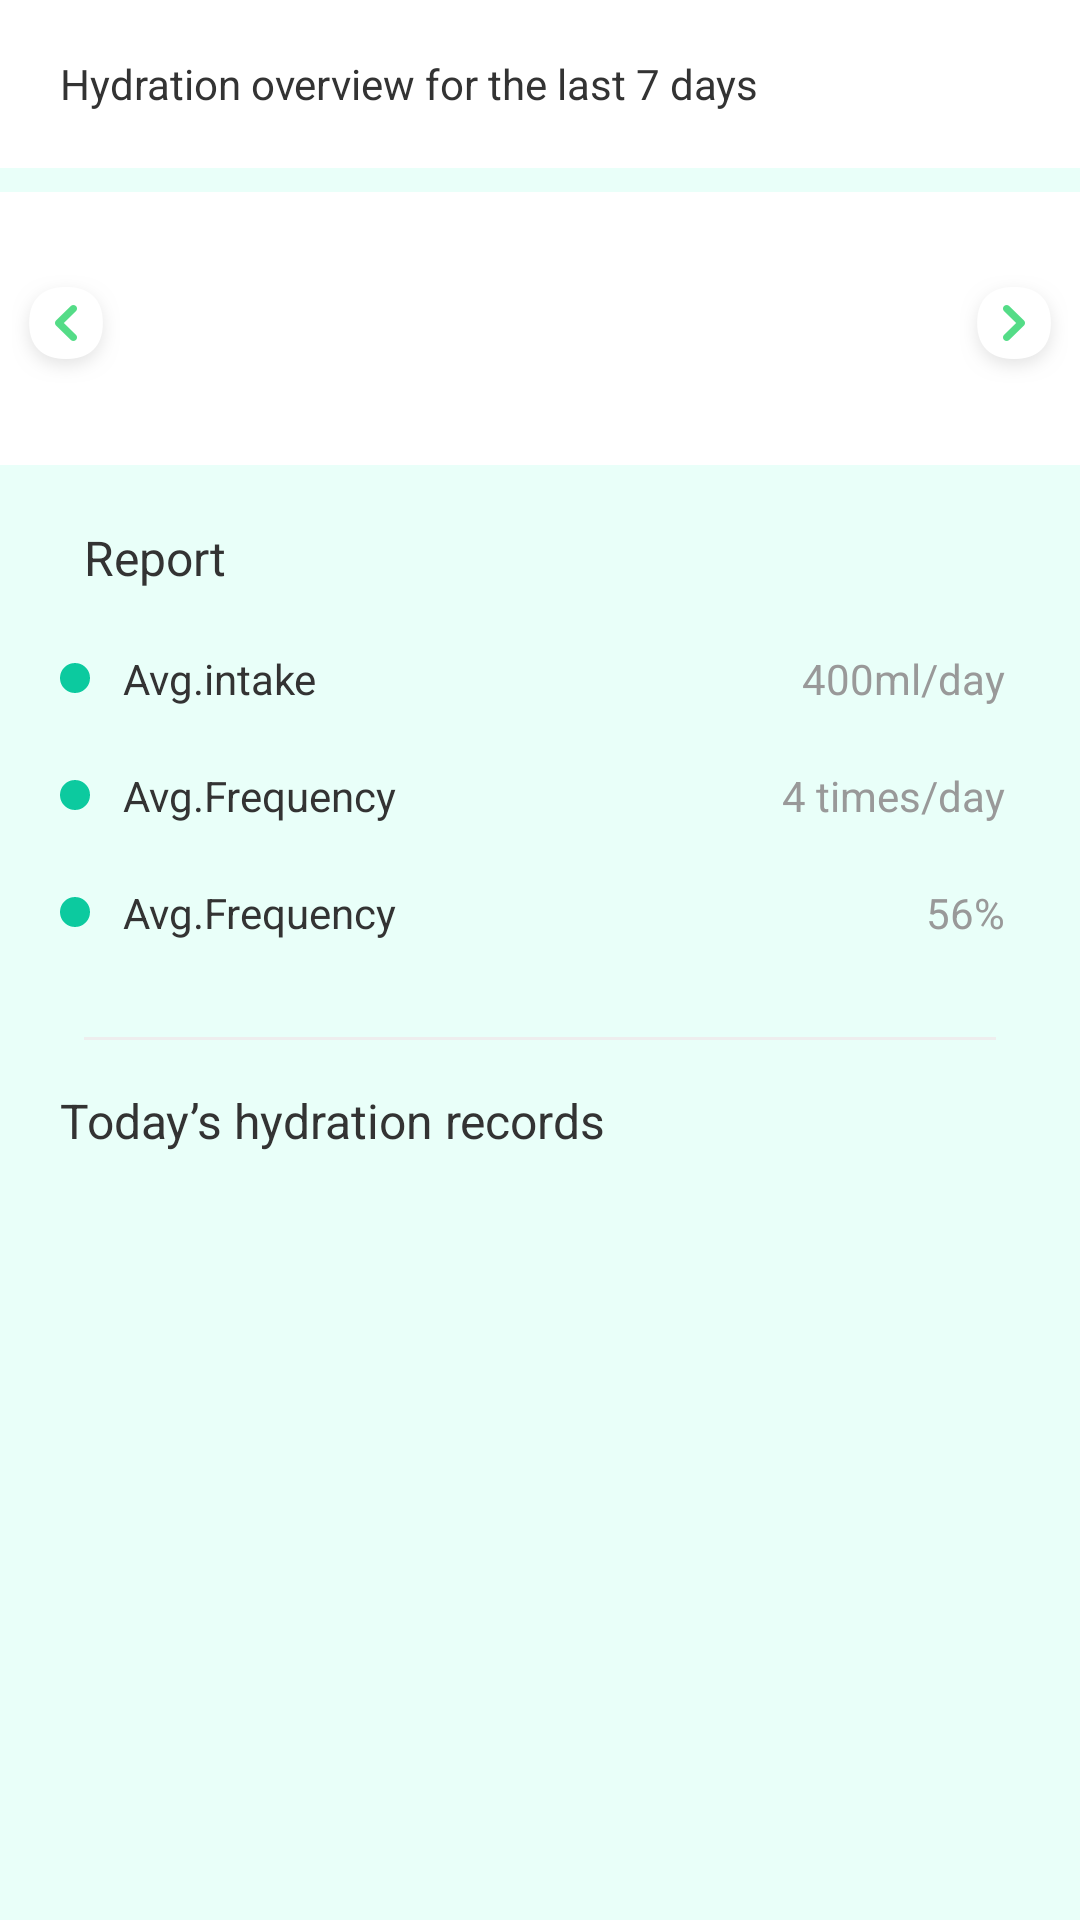

Icons on this 1080px×1920px Android screen, each with the point to tap as [x,y]:
left: [66,323]
right: [1014,323]
